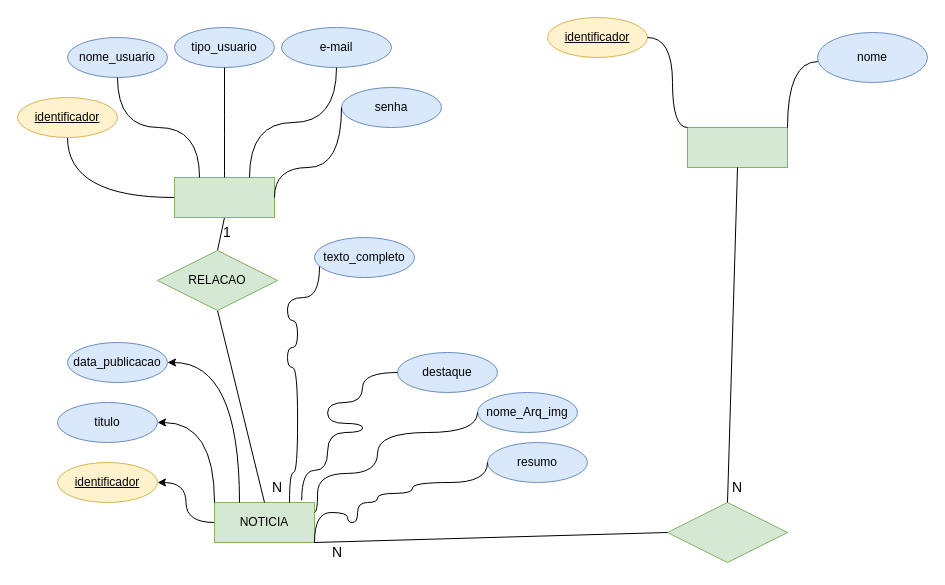
Image size: 945x585. Some labels were removed from this diagram. Each missing label, with the centre of its shape:
"CATEGORIA" belongs at pixel 737 147.
"CLASSIFICA" belongs at pixel 727 532.
"USUARIO" belongs at pixel 224 197.
